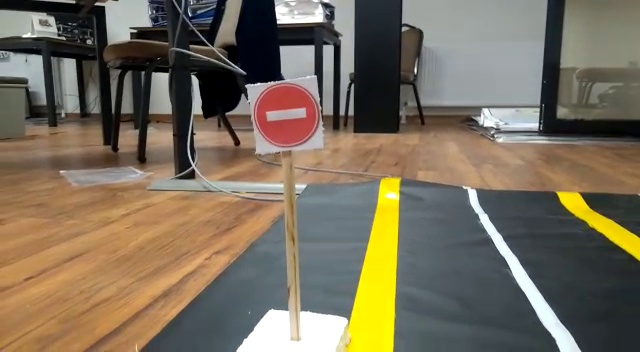girisi_olmayan_yol: (249, 81, 322, 150)
